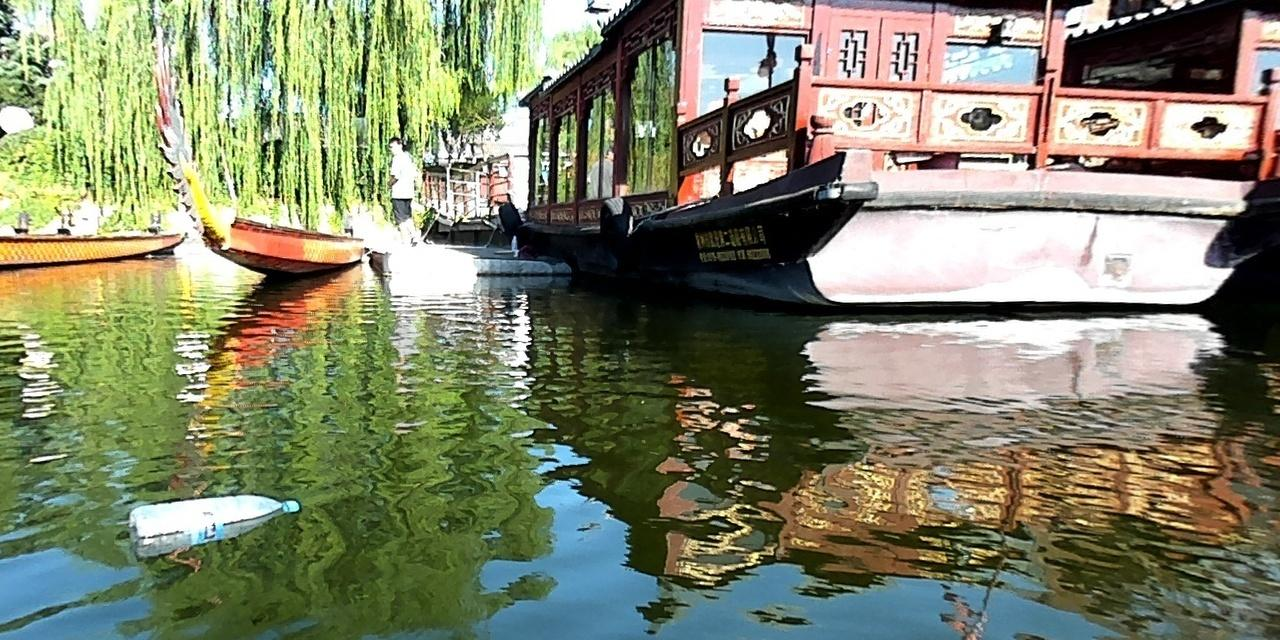bottle: (125, 493, 296, 545)
